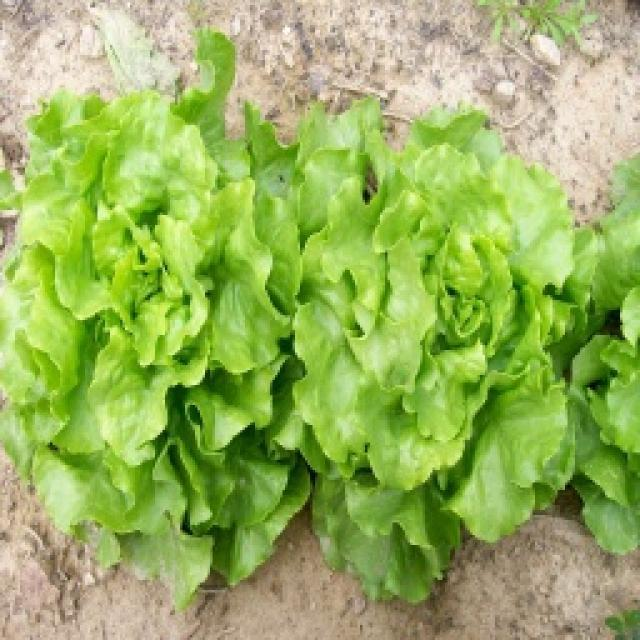Lettuce-Ready-to-Harvest: (0, 31, 310, 606), (294, 102, 574, 599), (570, 155, 640, 553)
